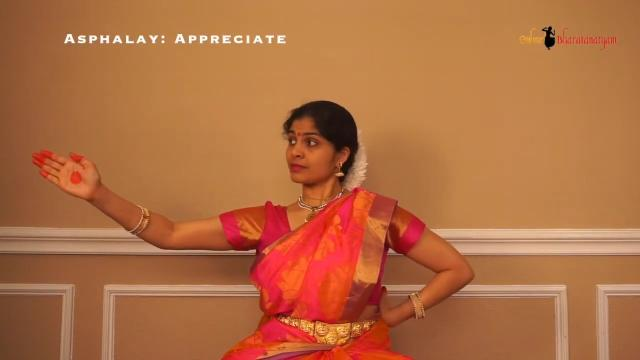sarpsheesh: (30, 131, 112, 211)
